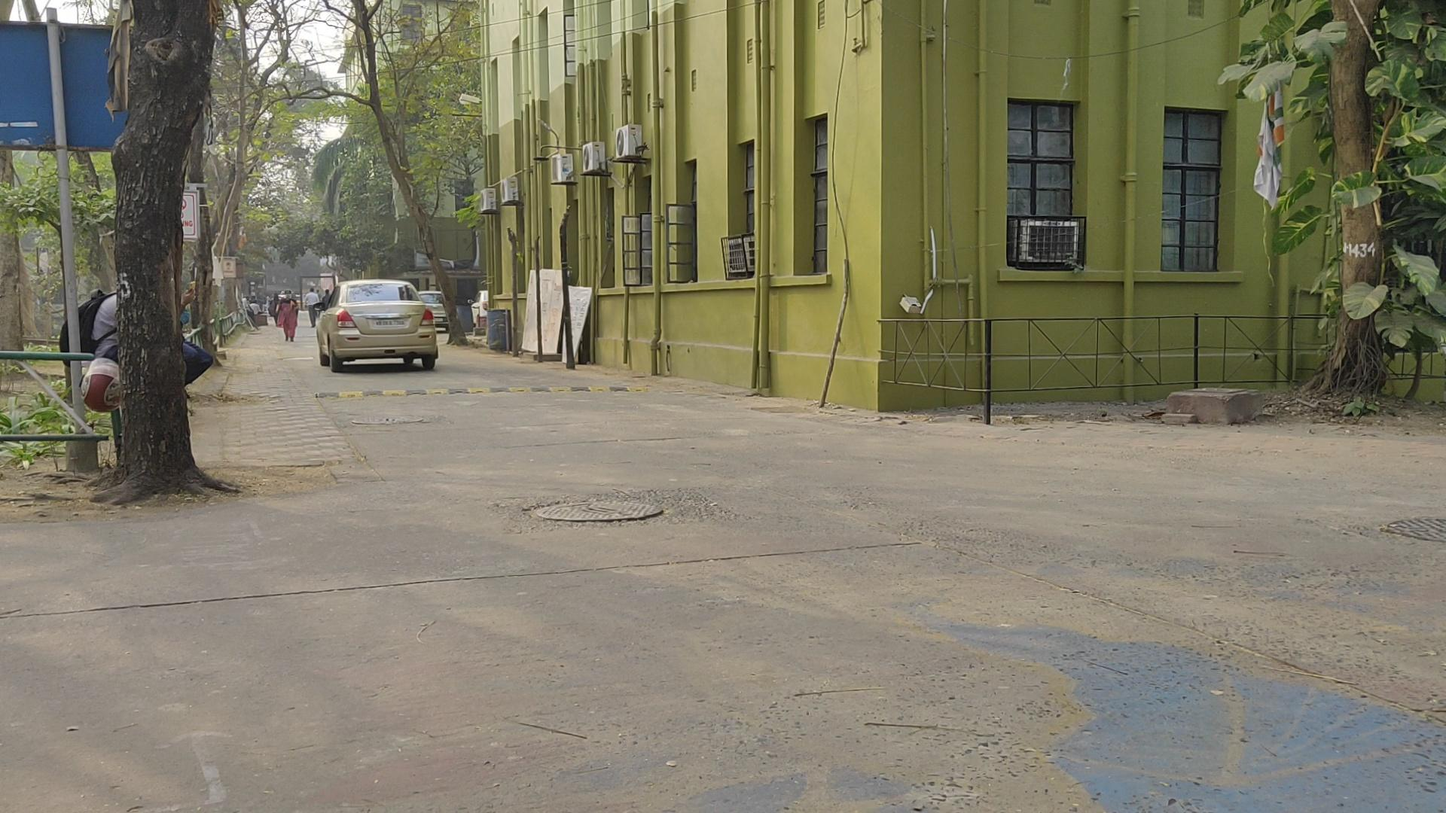car: (316, 279, 438, 374)
